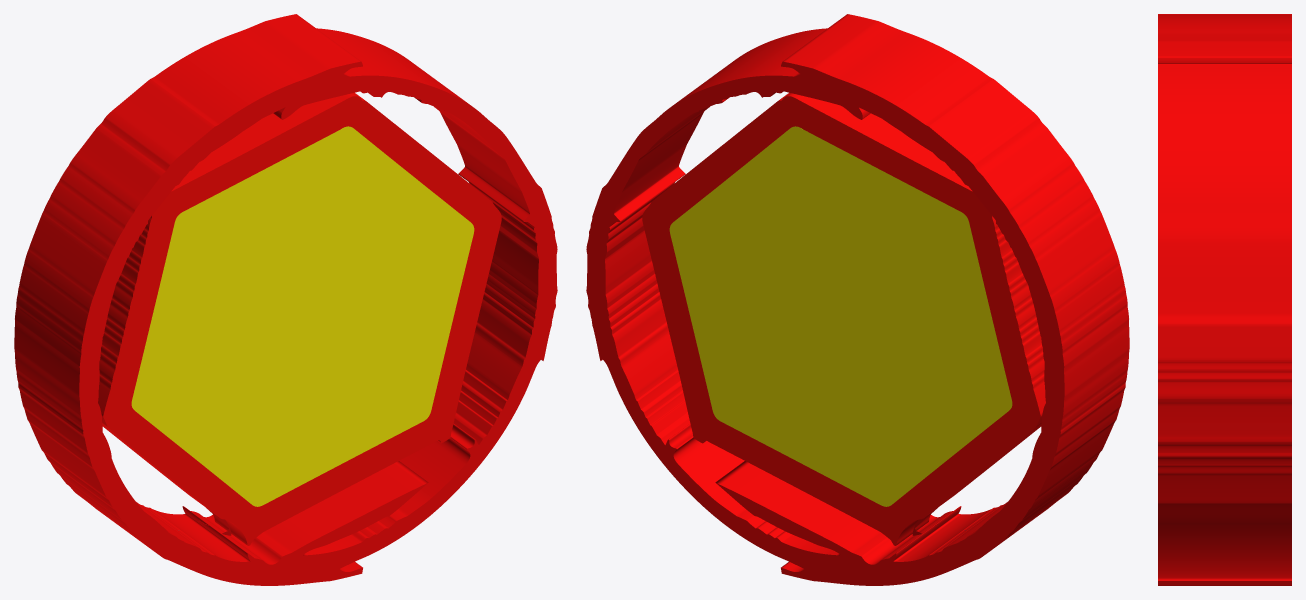
3 views of the same model, side by side, from view 1: azimuth 30°, elevation 25°; view 2: azimuth 150°, elevation 25°; view 3: azimuth 270°, elevation 25° (orthographic). The views are drawn at different scales.
Parts seen in each view (by area): view 1: Curve.001, Curve.214, Curve.018; view 2: Curve.001, Curve.214, Curve.018; view 3: Curve.001.
Boxes of the visible parts, x1,y1,x2,y2 form: Curve.001: (14, 14, 557, 585); Curve.214: (131, 126, 474, 506); Curve.018: (98, 92, 501, 545); Curve.001: (586, 14, 1129, 585); Curve.214: (669, 126, 1012, 506); Curve.018: (642, 92, 1045, 545); Curve.001: (1158, 14, 1291, 585).
Bounding box in the file's own units: 467 × 479 × 110.
